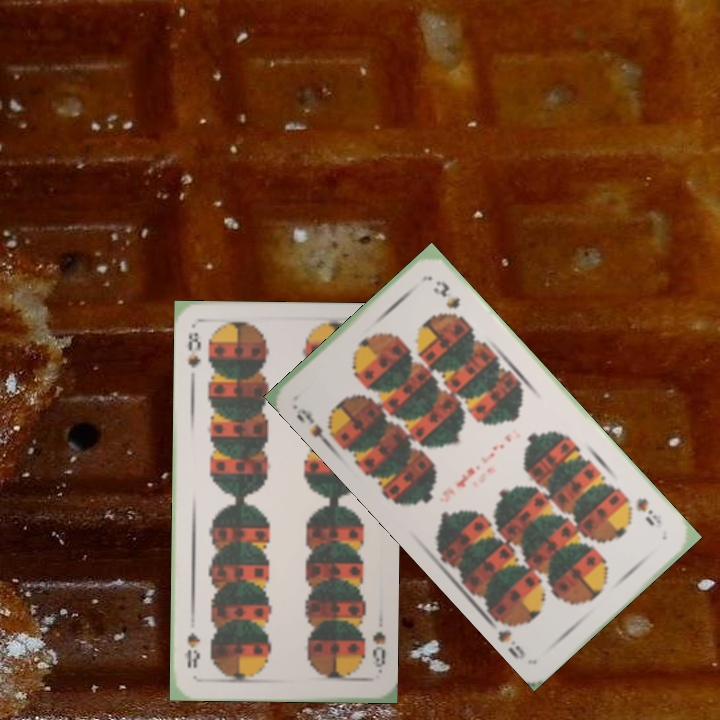S8: (369, 628, 388, 676), (183, 328, 203, 370)
S9: (289, 401, 341, 450), (632, 493, 665, 529)
